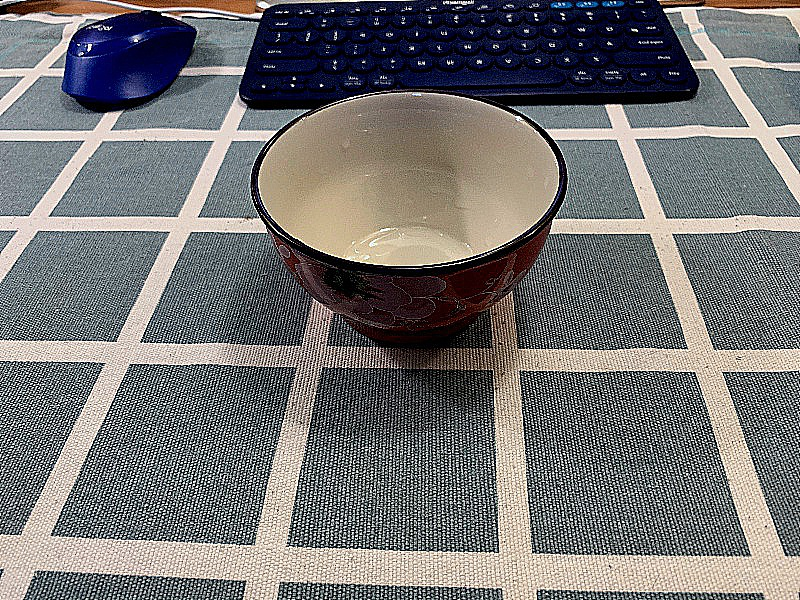bowl_small: (241, 83, 572, 355)
